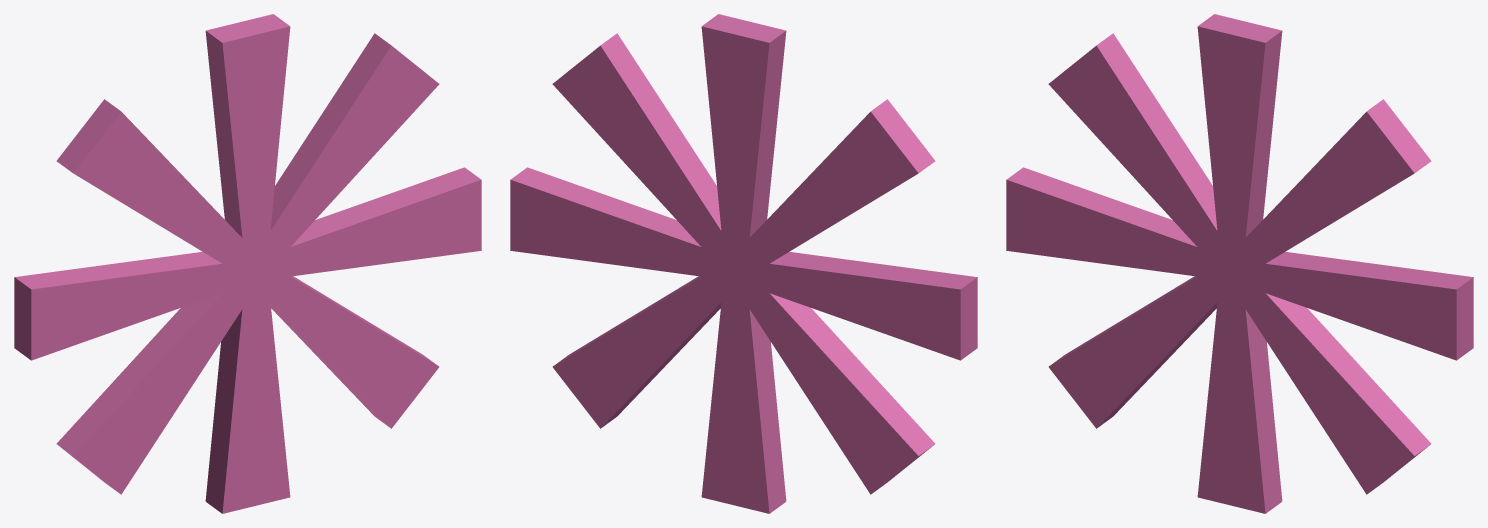
Rendered from bytecorp-asterisk.glb.
3 views of the same model, side by side, from view 1: azimuth 30°, elevation 25°; view 2: azimuth 150°, elevation 25°; view 3: azimuth 330°, elevation 25° (orthographic).
Visible parts, largest first — view 1: geometry_0; view 2: geometry_0; view 3: geometry_0.
Part boxes in pixels (x1,y1,x2,y2): geometry_0: (14,14,481,513); geometry_0: (510,14,977,513); geometry_0: (1006,14,1473,513).
Size of the model in its own units: 2 by 2 by 0.13.
